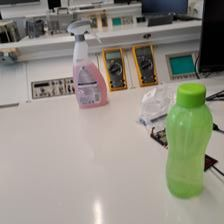bottle: (165, 80, 213, 198)
